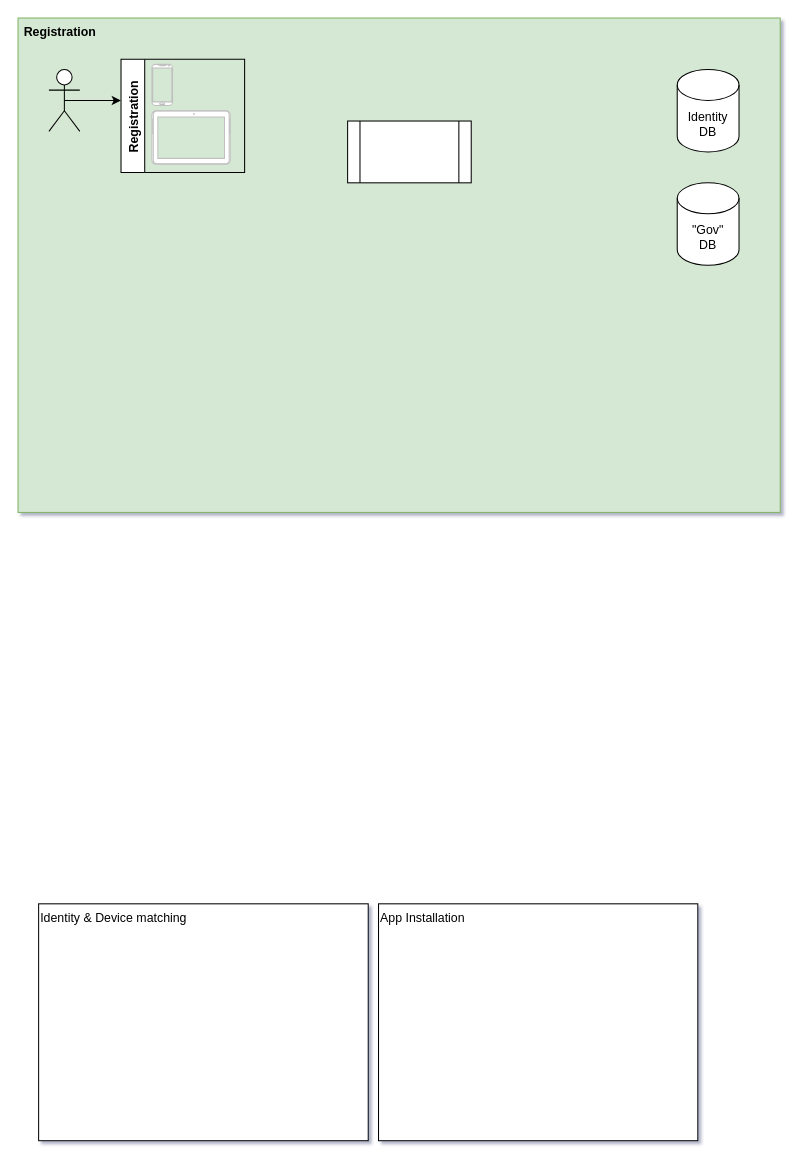
The diagram is 804 pixels wide and 1165 high, and some of its shapes have lost their labels. Each missing label, with the centre of its shape:
Actor: pixel 64 99
Process: pixel 409 151
